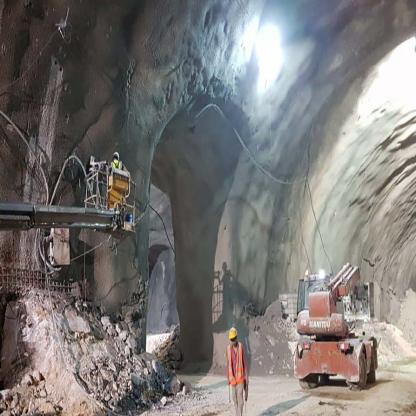person: (211, 306, 260, 416), (106, 144, 136, 189)
